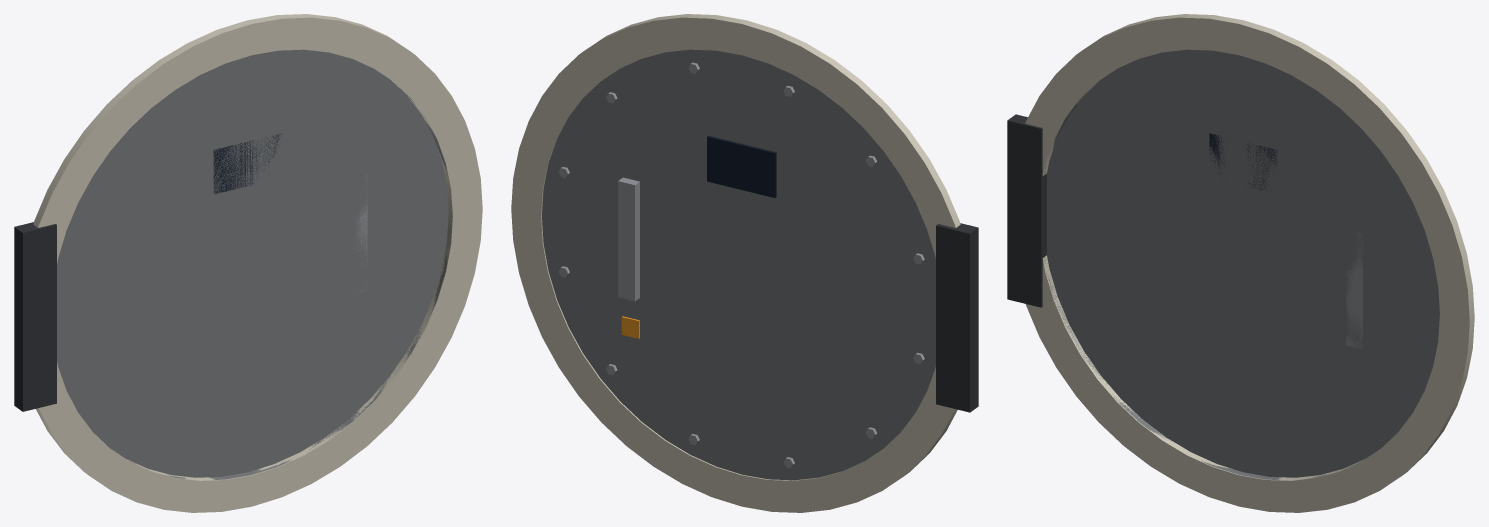
File: ec2_hatch_seal.obj
3 renders of one model, left to right at view 1: azimuth 30°, elevation 25°; view 2: azimuth 150°, elevation 25°; view 3: azimuth 330°, elevation 25°, orthographic.
Parts seen in each view (by area): view 1: ec2_hatch_seal; view 2: ec2_hatch_seal; view 3: ec2_hatch_seal.
Boxes of the visible parts, box(x1,y1,x2,y2) form: ec2_hatch_seal: box(14, 14, 482, 512); ec2_hatch_seal: box(511, 14, 978, 512); ec2_hatch_seal: box(1007, 14, 1474, 512).
Bounding box in the file's own units: 1.08 × 1.08 × 0.0425.
